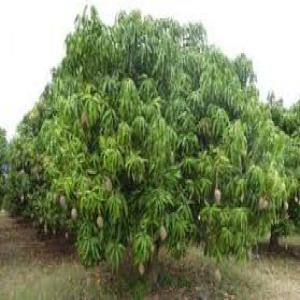Tree: (8, 2, 298, 292)
